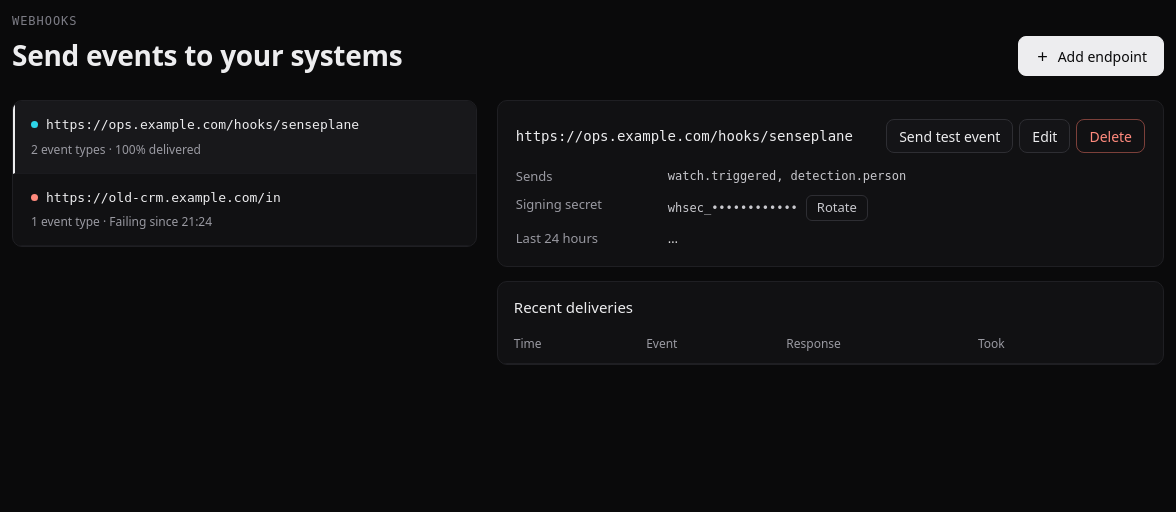
Test: WebhooksPage › says when test events and secret rotation are not available
Click the button "Send test event" at (950, 136), box top-left (886, 119), bottom-right (1013, 153)
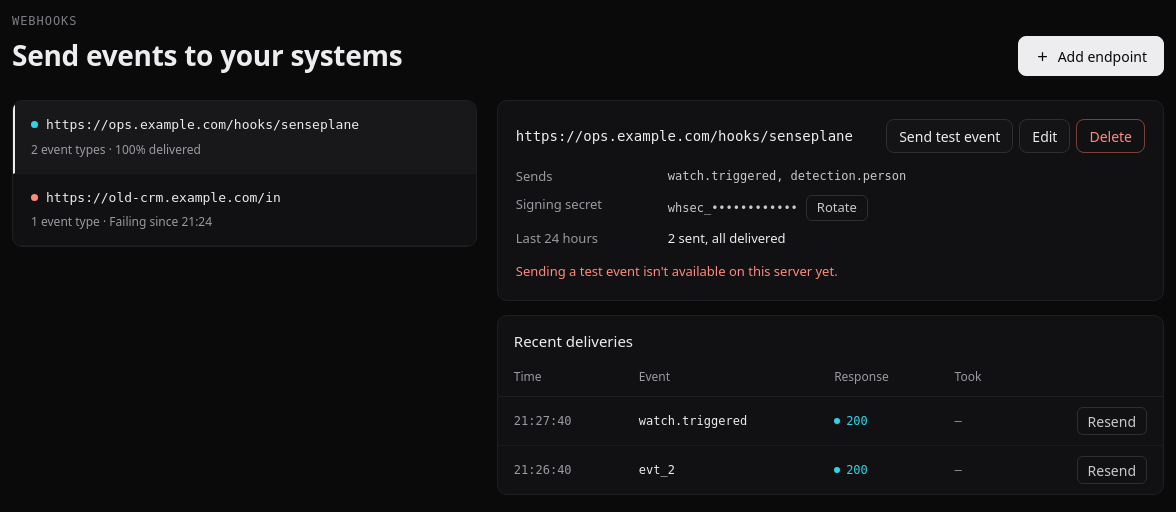
Now the text "Sending a test event isn't available on this server yet." is shown, box top-left (516, 262), bottom-right (838, 280)
Click the button "Rotate" at (837, 208), box top-left (806, 194), bottom-right (868, 220)
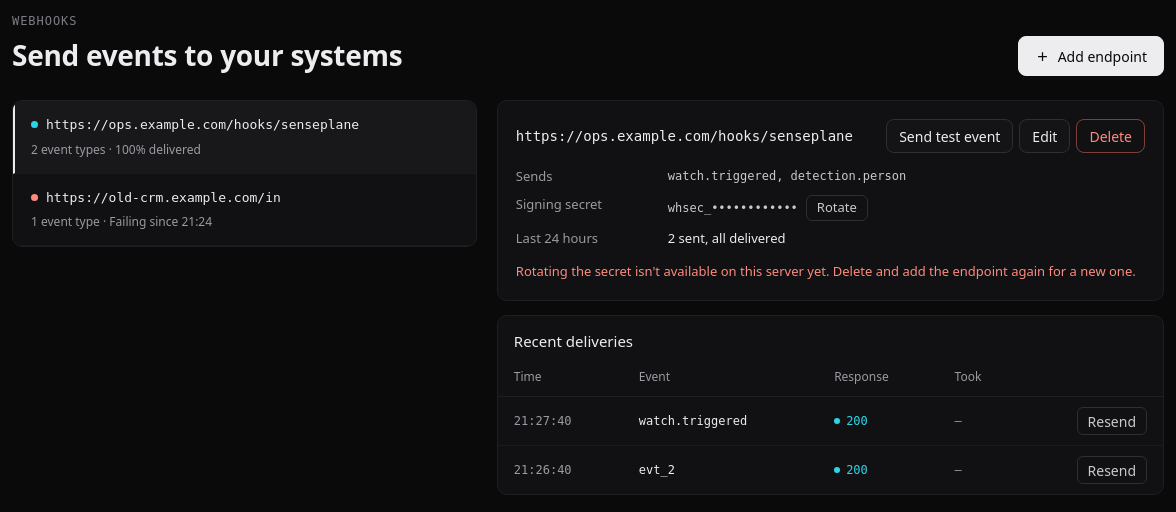
Now the text "Rotating the secret isn't available on this server yet" is shown, box top-left (516, 262), bottom-right (1136, 280)
